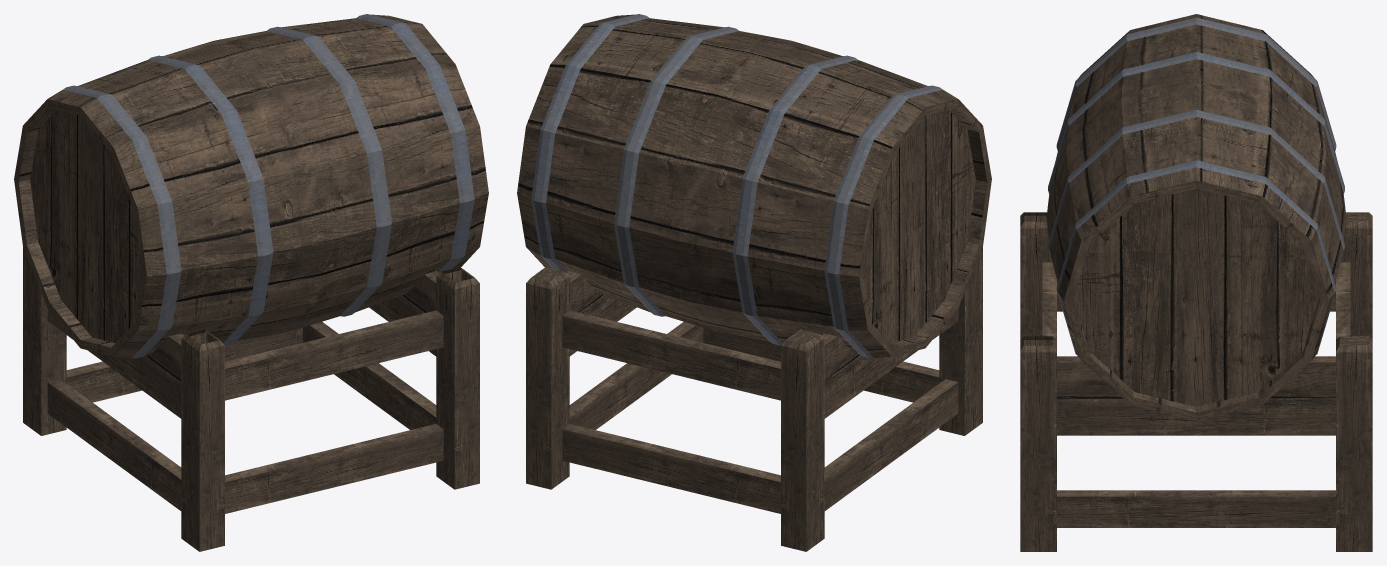
File: f1_barrel2.dae
3 renders of one model, left to right at view 1: azimuth 30°, elevation 25°; view 2: azimuth 150°, elevation 25°; view 3: azimuth 270°, elevation 25°, orthographic.
Parts seen in each view (by area): view 1: f1_barrel2_Layer1; view 2: f1_barrel2_Layer1; view 3: f1_barrel2_Layer1.
Part boxes in pixels (left/top/right/bottom): f1_barrel2_Layer1: left=14, top=14, right=488, bottom=551; f1_barrel2_Layer1: left=517, top=14, right=991, bottom=551; f1_barrel2_Layer1: left=1020, top=14, right=1372, bottom=551.
Size of the model in its own units: 1.07 by 1.21 by 0.96.
